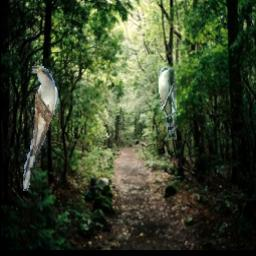Cuckoo: (22, 67, 57, 192), (159, 67, 177, 141)
